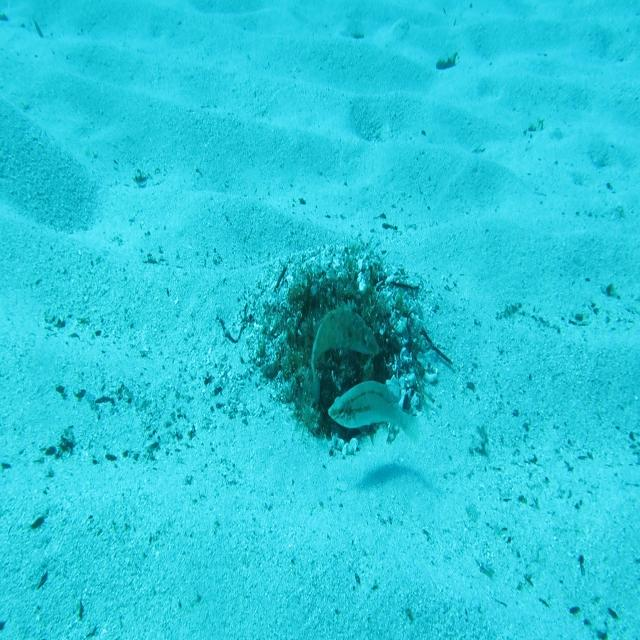BEND: (309, 296, 382, 406)
core_nest: (323, 282, 363, 326)
female: (327, 378, 421, 450)
nest: (229, 222, 444, 476)
vegetation: (436, 48, 458, 73)
